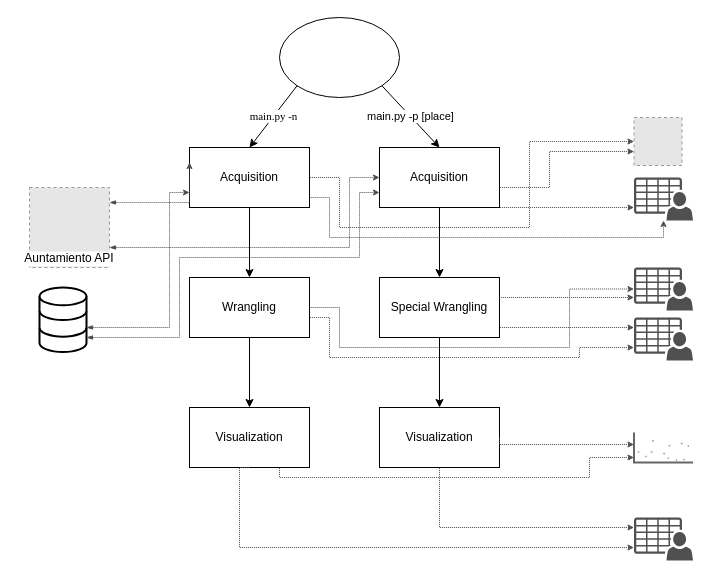
Image size: 710x578. Some labels were removed from this diagram. Grey dashed boxes stand in for pictures. Each missing label, with the centre of its shape:
main.py: the point at 339,57
SQLite Database: the point at 62,319
